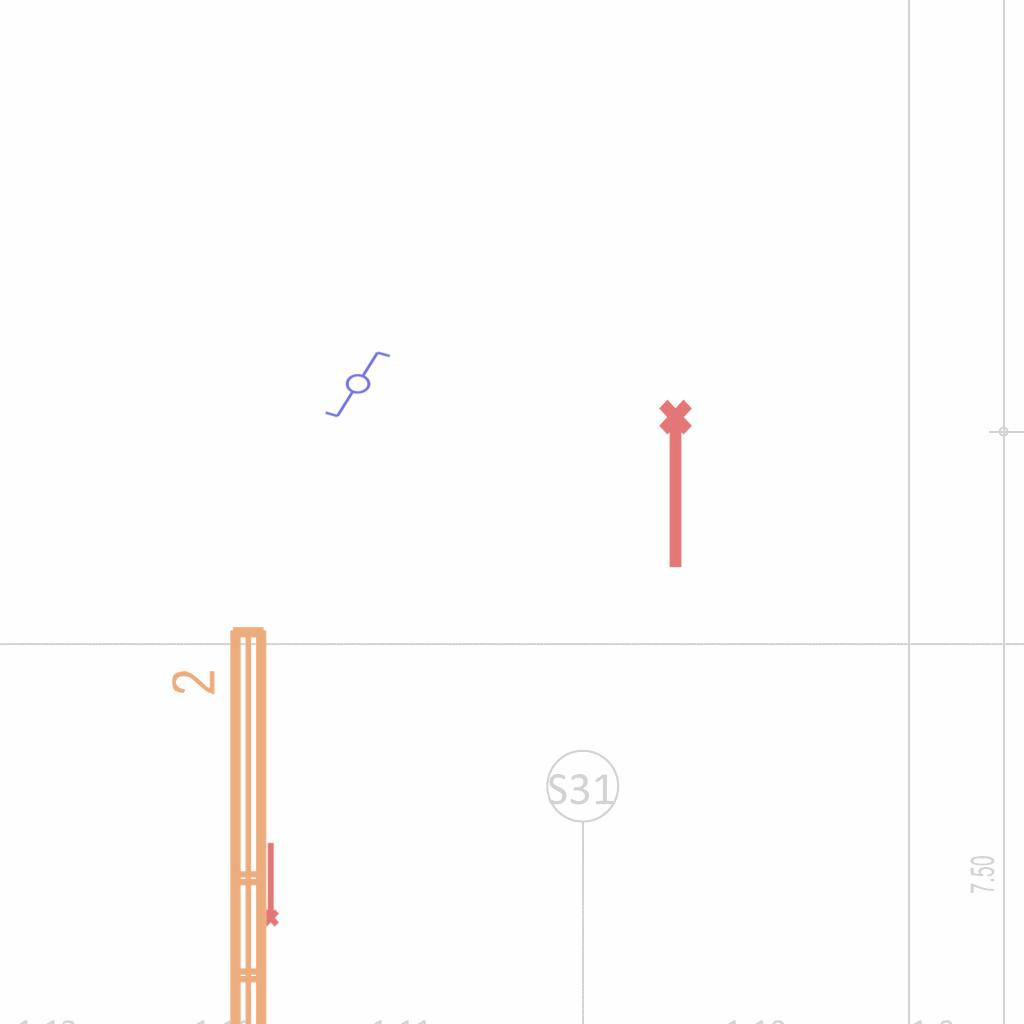ASR_Ansaugoeffnung: (655, 397, 701, 573), (258, 840, 281, 928)
Ambulanz_Pendelleuchte_LED: (167, 618, 279, 1024)
Wechselschalter: (323, 349, 401, 421)
